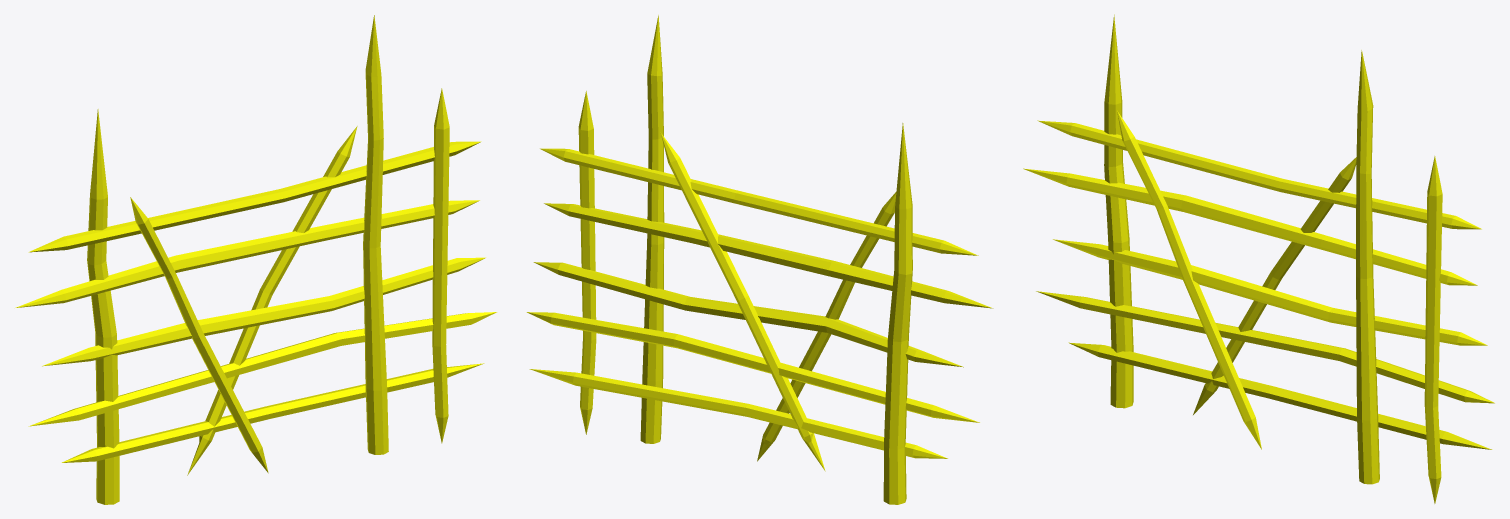
File: gaint_fence04.glb
3 views of the same model, side by side, from view 1: azimuth 30°, elevation 25°; view 2: azimuth 150°, elevation 25°; view 3: azimuth 330°, elevation 25° (orthographic). The views are drawn at different scales.
Visible parts, largest first — view 1: gaint_fence0401, gaint_fence0400; view 2: gaint_fence0401, gaint_fence0400; view 3: gaint_fence0401, gaint_fence0400.
Part boxes in pixels (bbox=[...]): gaint_fence0401: bbox=[15, 88, 496, 475]; gaint_fence0400: bbox=[87, 15, 388, 504]; gaint_fence0401: bbox=[526, 91, 993, 471]; gaint_fence0400: bbox=[640, 15, 912, 504]; gaint_fence0401: bbox=[1023, 110, 1494, 503]; gaint_fence0400: bbox=[1104, 14, 1379, 484].
Bounding box in the file's own units: 10.34 × 9.2 × 0.8695.
2 materials, 2 textured.
